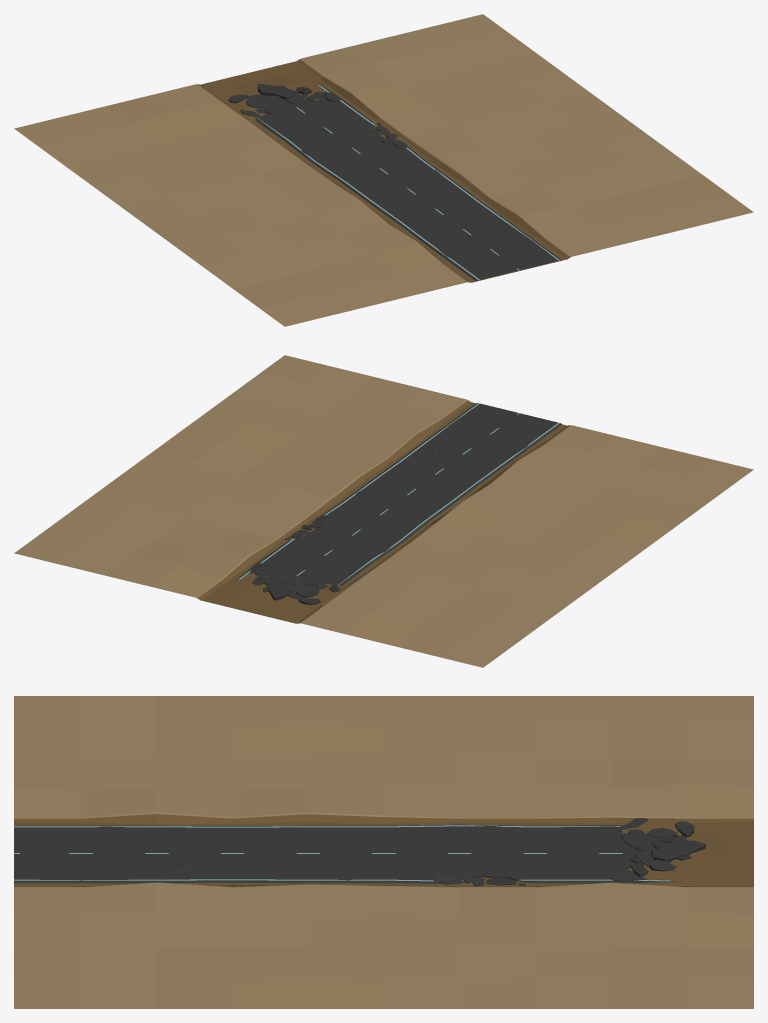
The model's file is model_road_dirt_straight_03.fbx.
The picture shows the model from 3 angles, top to bottom: view 1: azimuth 30°, elevation 25°; view 2: azimuth 150°, elevation 25°; view 3: azimuth 270°, elevation 25°; orthographic projection. The views are drawn at different scales.
Visible parts, largest first — view 1: model_road_dirt_straight_03; view 2: model_road_dirt_straight_03; view 3: model_road_dirt_straight_03.
Part boxes in pixels (<box>): model_road_dirt_straight_03: <box>14,14,753,326</box>; model_road_dirt_straight_03: <box>14,355,753,667</box>; model_road_dirt_straight_03: <box>14,696,753,1008</box>.
Bounding box in the file's own units: 6000 × 72.76 × 6000.
Materials: 1 (1 with a texture image).
